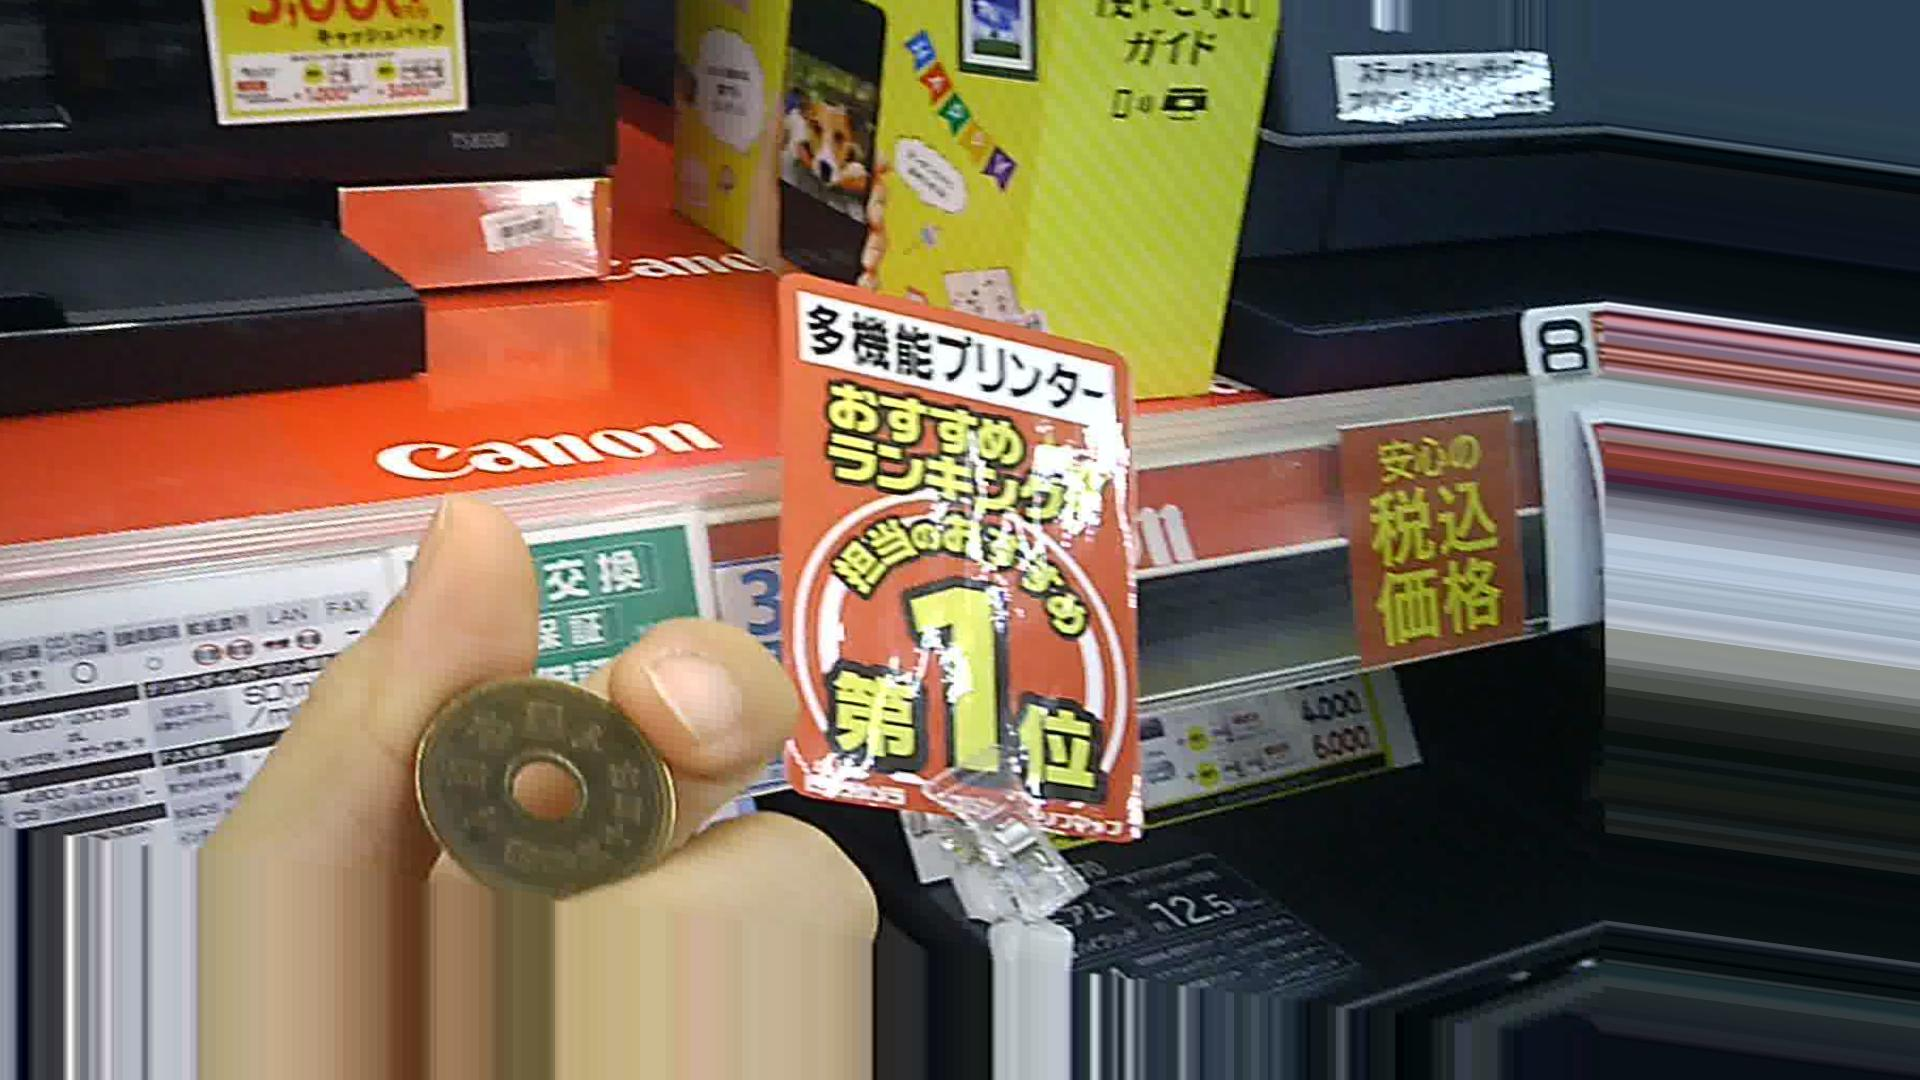5 Yen: (415, 670, 687, 902)
